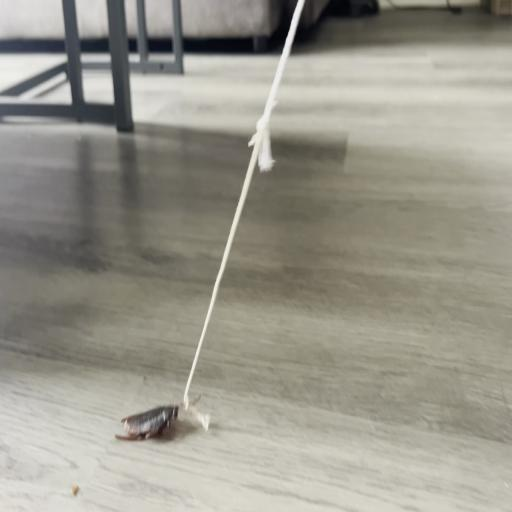cockroach: (115, 402, 180, 442)
